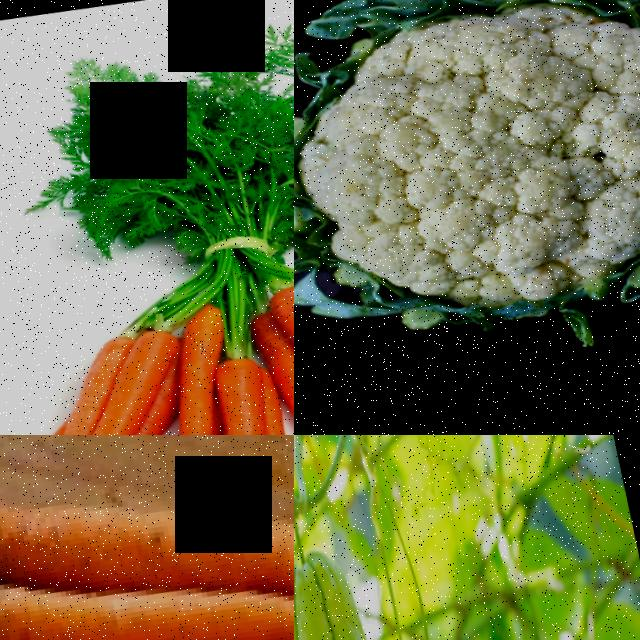carrot: (0, 435, 294, 596), (0, 520, 294, 640), (71, 321, 185, 435), (194, 353, 294, 435), (271, 271, 294, 373)
cauliflower: (294, 0, 640, 435)
chayote: (294, 533, 467, 640)
